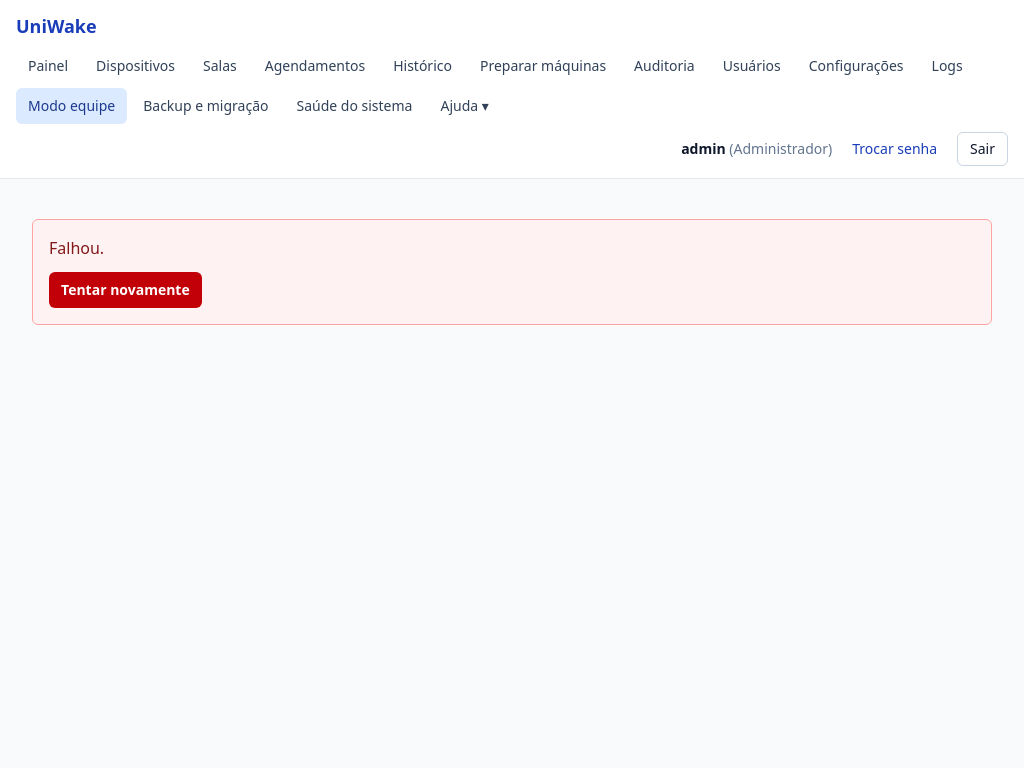
Test: Modo equipe page (FR-201, FR-202.6) › loading, error and the two ways in when this PC is alone
Check: the text "Falhou." is shown, box 49,237 -> 104,259
Click the button "Tentar novamente" at x=125, y=290, box 49,272 -> 202,308
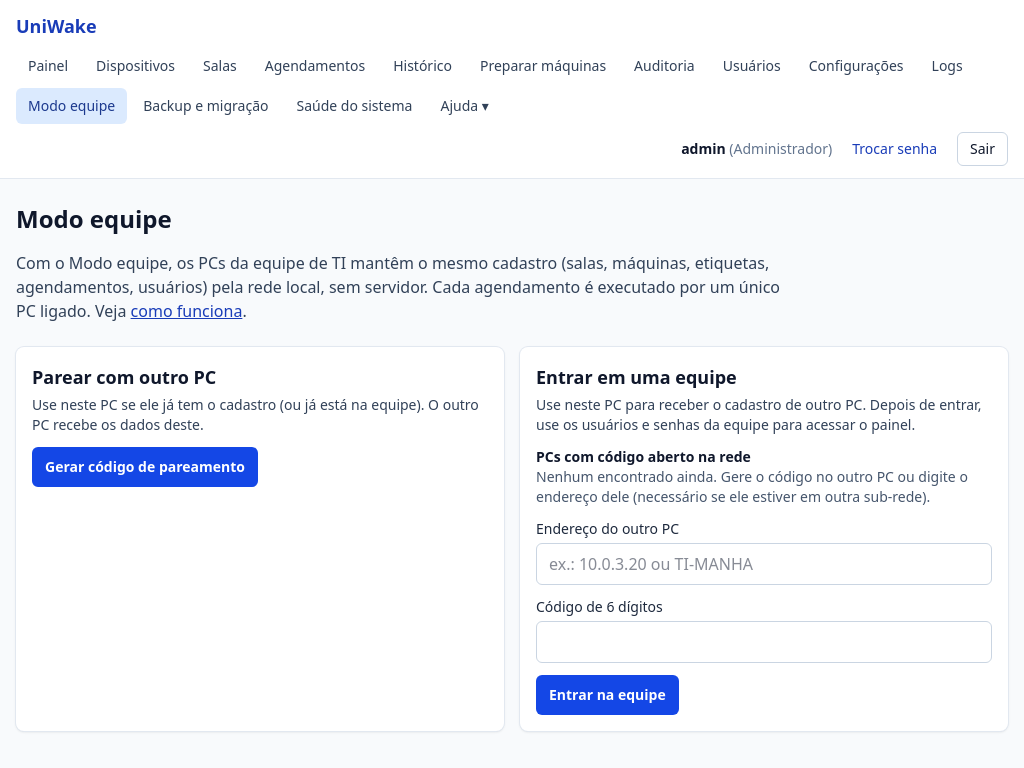
Check: the heading "Parear com outro PC" is shown, box 32,365 -> 216,389
Check: the heading "Entrar em uma equipe" is shown, box 536,365 -> 737,389
Check: the text "Nenhum encontrado ainda" is shown, box 536,467 -> 968,506
